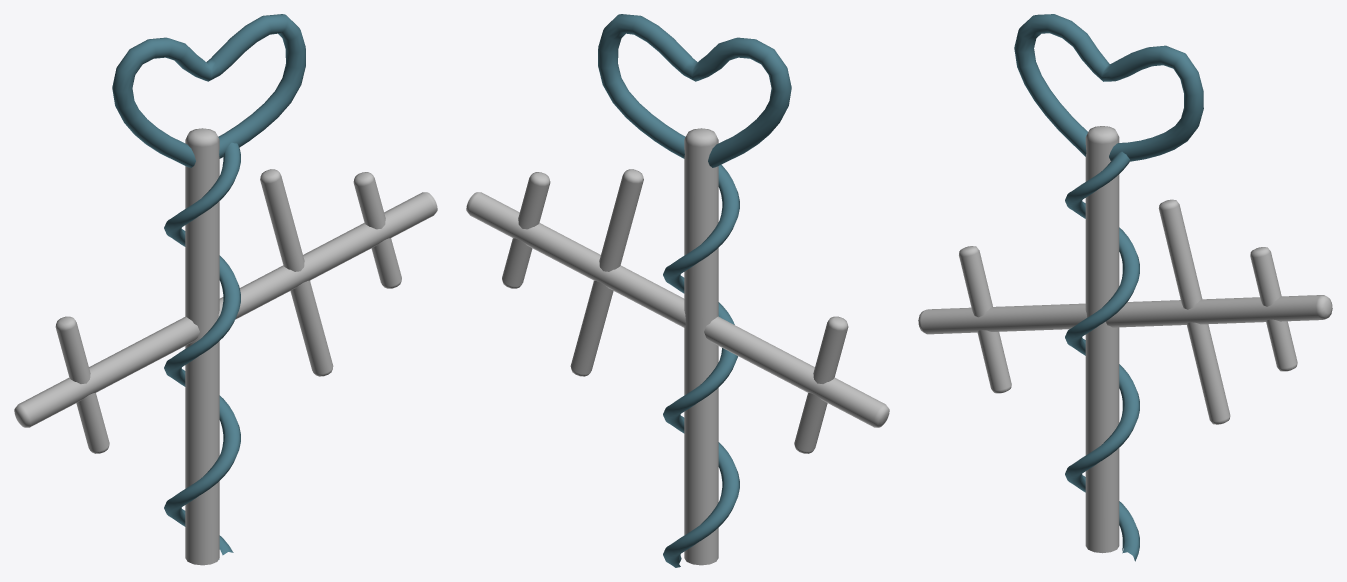
File: Town_4_Antenna_1.glb
3 views of the same model, side by side, from view 1: azimuth 30°, elevation 25°; view 2: azimuth 150°, elevation 25°; view 3: azimuth 330°, elevation 25° (orthographic). The views are drawn at different scales.
Parts seen in each view (by area): view 1: Town_4_Antenna_1; view 2: Town_4_Antenna_1; view 3: Town_4_Antenna_1.
Part boxes in pixels (bbox=[...]): Town_4_Antenna_1: bbox=[14, 14, 437, 565]; Town_4_Antenna_1: bbox=[466, 14, 889, 567]; Town_4_Antenna_1: bbox=[918, 14, 1332, 561].
Bounding box in the file's own units: 2 × 2.51 × 0.3187.
Materials: 1 (1 with a texture image).
